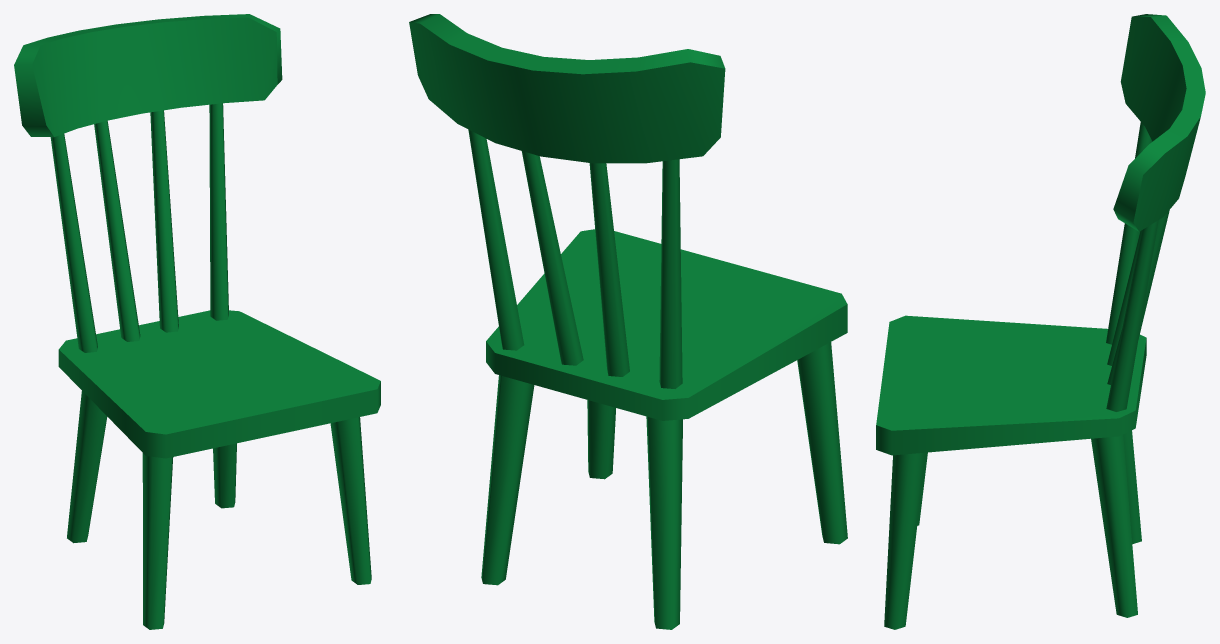
Rendered from Chair.FBX.
3 views of the same model, side by side, from view 1: azimuth 30°, elevation 25°; view 2: azimuth 150°, elevation 25°; view 3: azimuth 270°, elevation 25° (orthographic). The views are drawn at different scales.
Visible parts, largest first — view 1: Chair; view 2: Chair; view 3: Chair.
Boxes of the visible parts, left/top/right/bottom form: Chair: left=14, top=14, right=380, bottom=629; Chair: left=409, top=14, right=847, bottom=629; Chair: left=876, top=14, right=1205, bottom=629.
Bounding box in the file's own units: 80.57 × 143 × 84.2.
